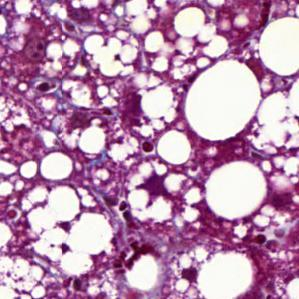steatosis: (184, 63, 265, 140), (159, 128, 193, 165)
